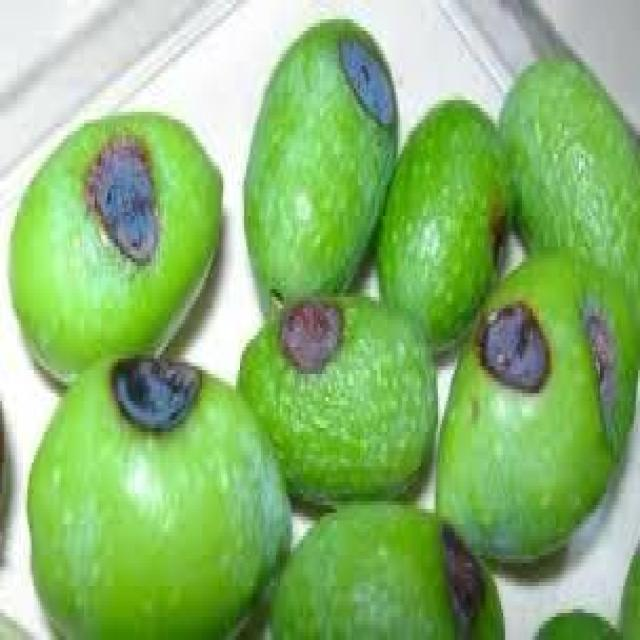Olive Fruit Fly: (32, 355, 291, 636), (438, 251, 636, 555), (8, 112, 221, 382), (244, 19, 396, 308), (236, 297, 436, 509), (379, 100, 509, 351)
